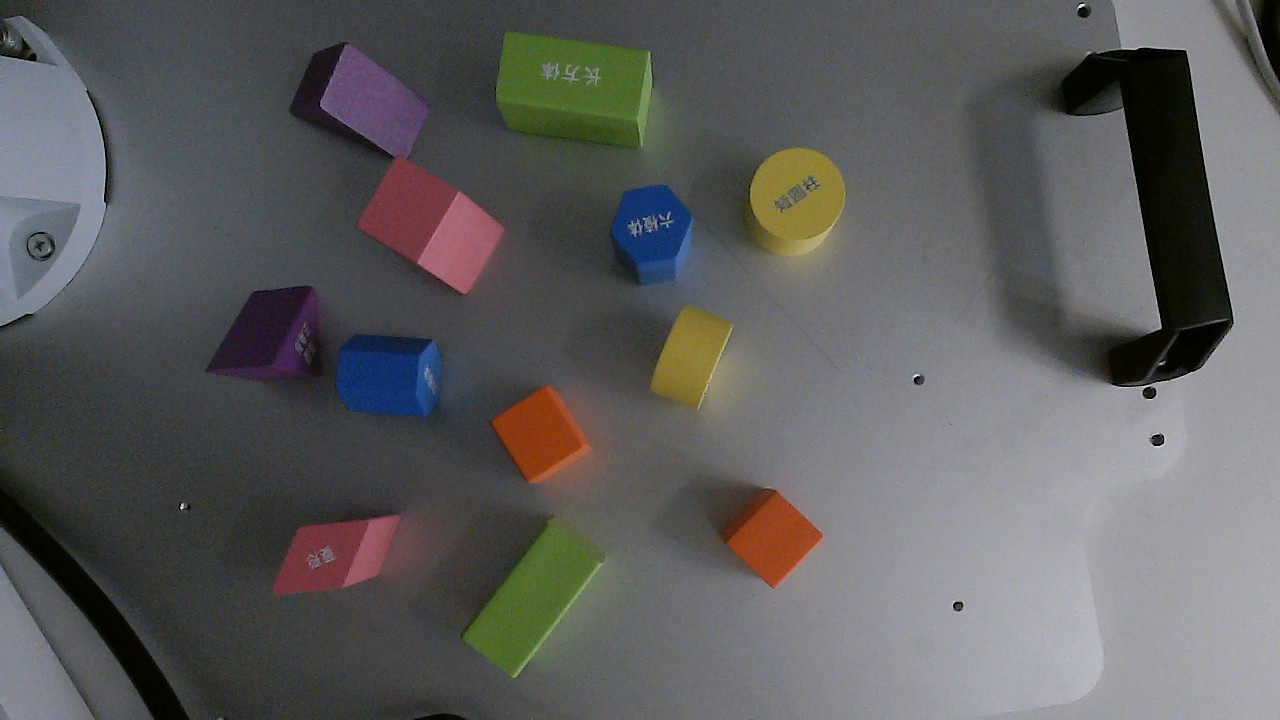circle: (740, 145, 852, 258), (648, 301, 739, 416)
diamond: (357, 154, 504, 299), (275, 510, 407, 595)
hexagon: (336, 335, 444, 420), (607, 182, 695, 286)
rectangle: (458, 514, 611, 680), (491, 25, 658, 147)
square: (719, 485, 824, 587), (492, 386, 590, 482)
triangle: (287, 42, 433, 164), (198, 284, 327, 394)
